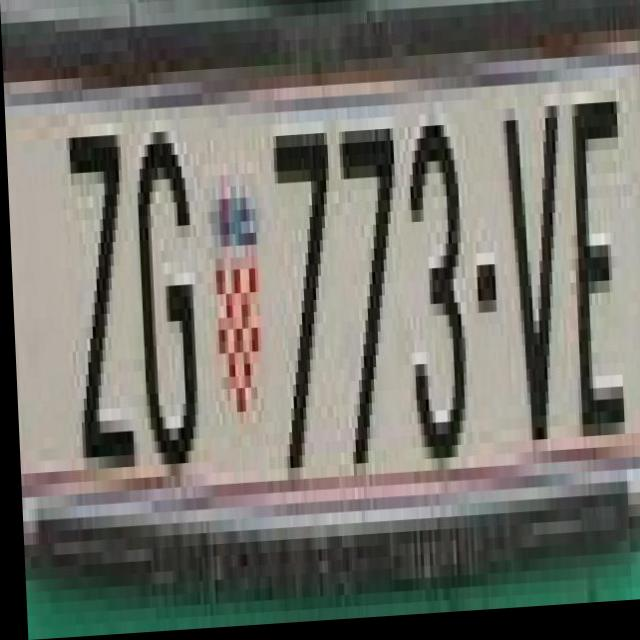3: (399, 118, 467, 501)
7: (337, 110, 403, 481), (268, 114, 331, 484)
E: (560, 75, 624, 457)
G: (130, 109, 202, 468)
V: (498, 90, 568, 484)
Z: (57, 100, 133, 484)
